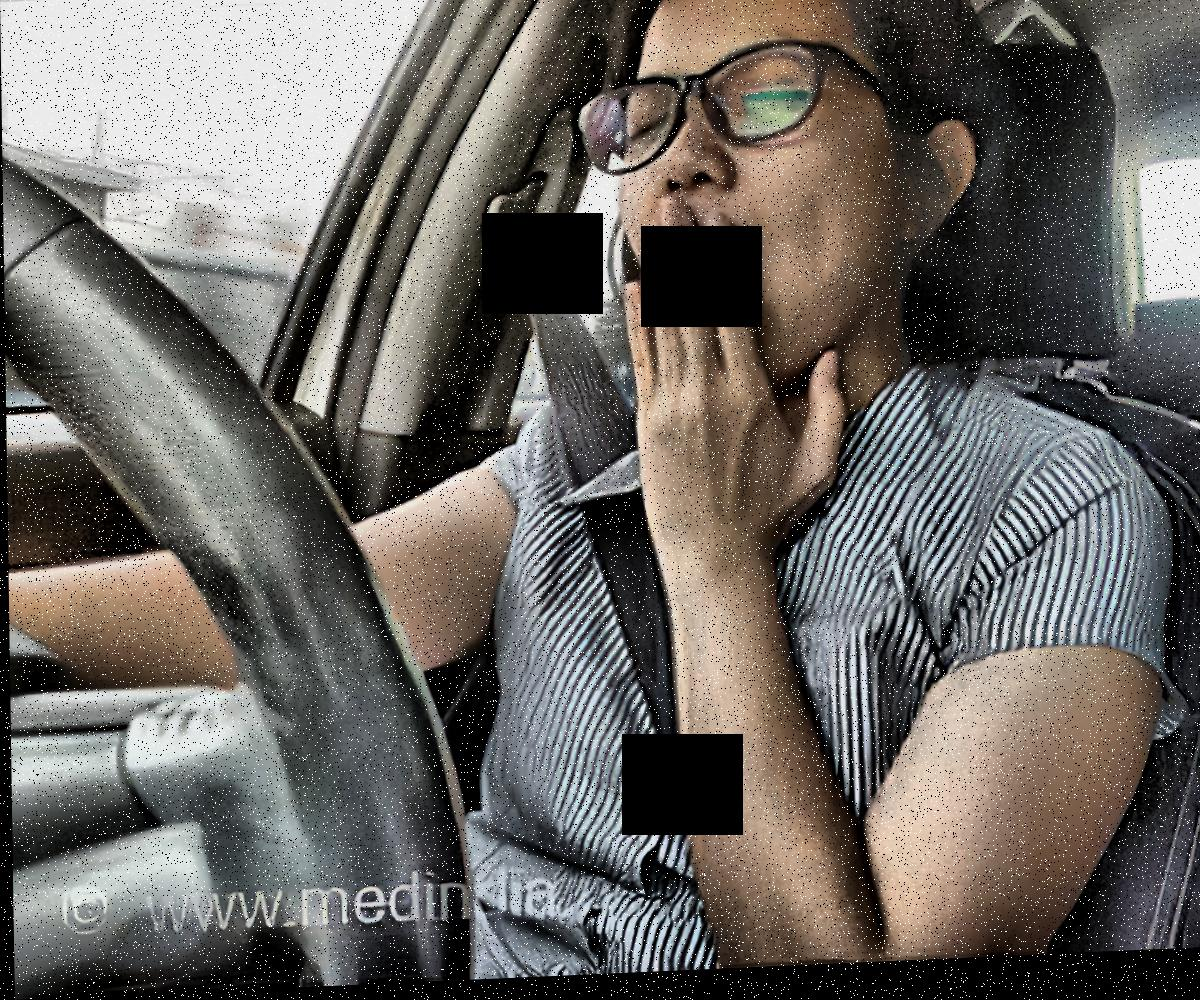seatbelt: (453, 161, 723, 871)
